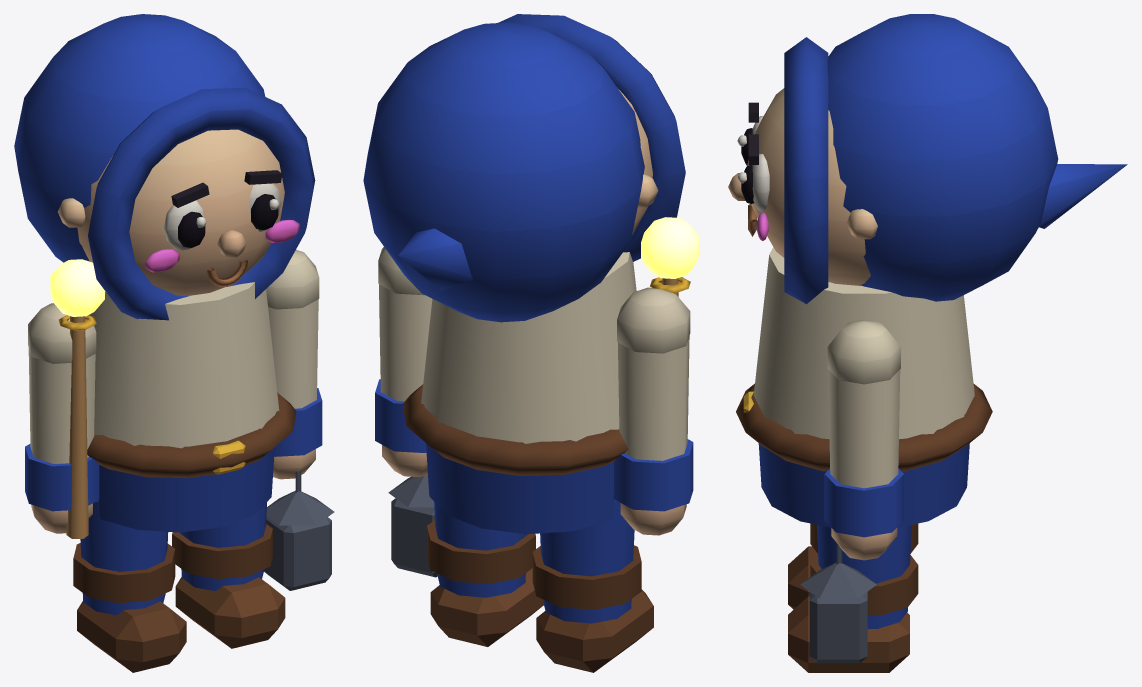
The model's file is hero_lumen.glb.
The picture shows the model from 3 angles, left to right: view 1: azimuth 30°, elevation 25°; view 2: azimuth 150°, elevation 25°; view 3: azimuth 270°, elevation 25°; orthographic projection. The views are drawn at different scales.
Visible parts, largest first — view 1: body_t0_palette, armr_t0_palette, arml_t0_palette, legl_t0_palette, legr_t0_palette, arml_t0_glow_gold; view 2: body_t0_palette, arml_t0_palette, legl_t0_palette, armr_t0_palette, legr_t0_palette, arml_t0_glow_gold; view 3: body_t0_palette, armr_t0_palette, legr_t0_palette, legl_t0_palette.
Part boxes in pixels (left/top/right/bottom): body_t0_palette: left=14, top=14, right=315, bottom=532; armr_t0_palette: left=264, top=249, right=334, bottom=590; arml_t0_palette: left=25, top=303, right=99, bottom=538; legl_t0_palette: left=73, top=501, right=186, bottom=672; legr_t0_palette: left=172, top=502, right=285, bottom=648; arml_t0_glow_gold: left=50, top=259, right=104, bottom=316; body_t0_palette: left=363, top=14, right=685, bottom=534; arml_t0_palette: left=614, top=277, right=693, bottom=535; legl_t0_palette: left=532, top=500, right=653, bottom=672; armr_t0_palette: left=375, top=247, right=437, bottom=577; legr_t0_palette: left=427, top=501, right=543, bottom=646; arml_t0_glow_gold: left=641, top=217, right=699, bottom=278; body_t0_palette: left=728, top=14, right=1127, bottom=527; armr_t0_palette: left=800, top=319, right=903, bottom=663; legr_t0_palette: left=788, top=525, right=918, bottom=672; legl_t0_palette: left=788, top=523, right=918, bottom=609.
Bounding box in the file's own units: 0.27 × 0.5265 × 0.3112.
